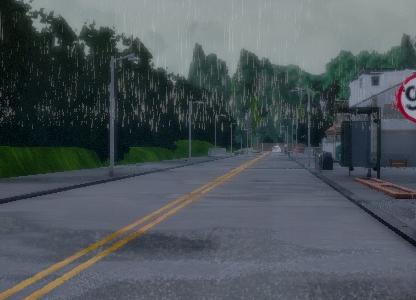Speed_90: (396, 70, 416, 126)
